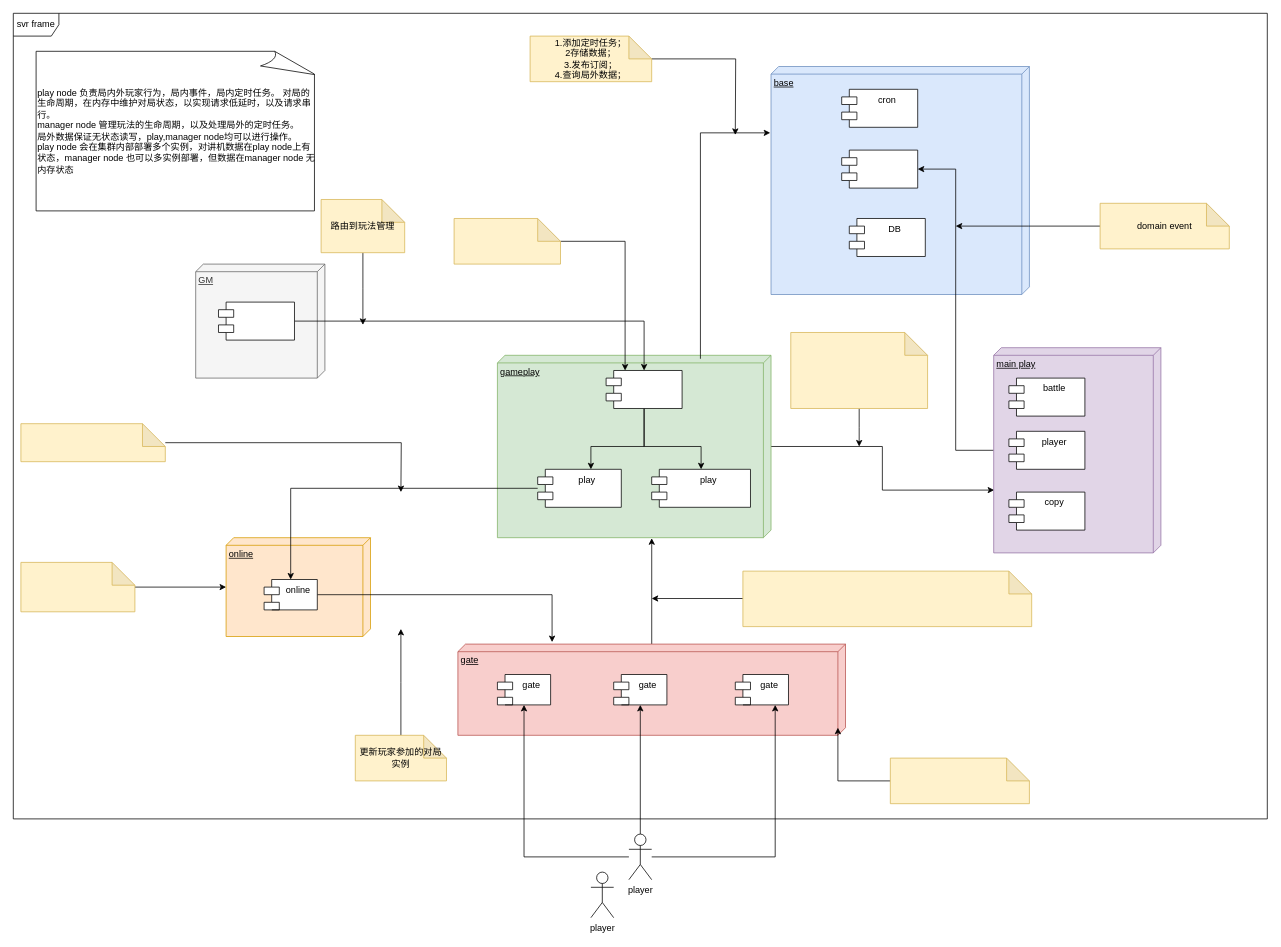
Image size: 1281x947. Some labels were removed from this diagram. Here are the shapes that lost their labels. From the top down, the centre of each, then its label:
At [879,168]: "mq".
At [506,241]: "管理玩法，对局".
At [256,320]: "admin".
At [643,389]: "Manager".
At [859,370]: "1.发放物品； 2.创建怪物；".
At [92,442]: "进入或者退出对局通知".
At [77,587]: "维护玩家参加的对局实例".
At [887,598]: "局内，局外路由，局内路由到所在实例，局外随机路由".
At [959,780]: "client 唯一上行人口".
